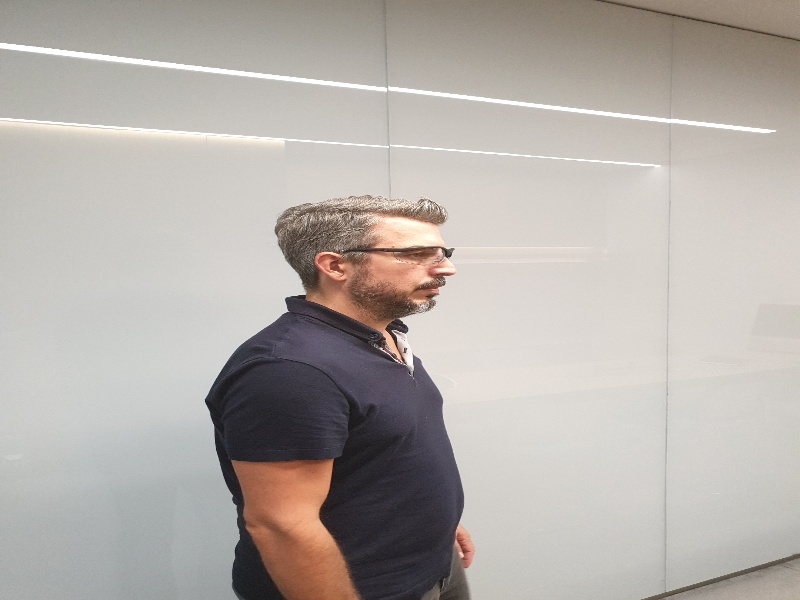Gozluk: (345, 246, 455, 263)
